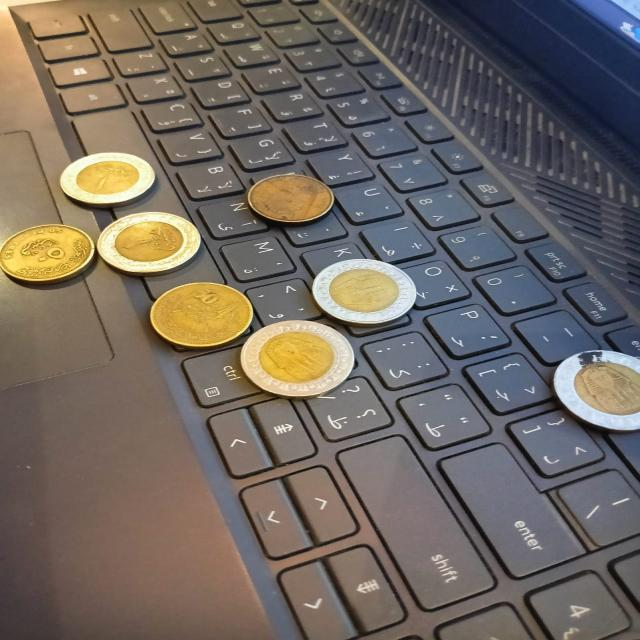Half Pound: (143, 279, 258, 355), (0, 219, 95, 288), (243, 164, 336, 232)
One Pound: (232, 320, 368, 402), (547, 334, 640, 439), (314, 252, 424, 330), (53, 144, 165, 208), (98, 210, 205, 273)
